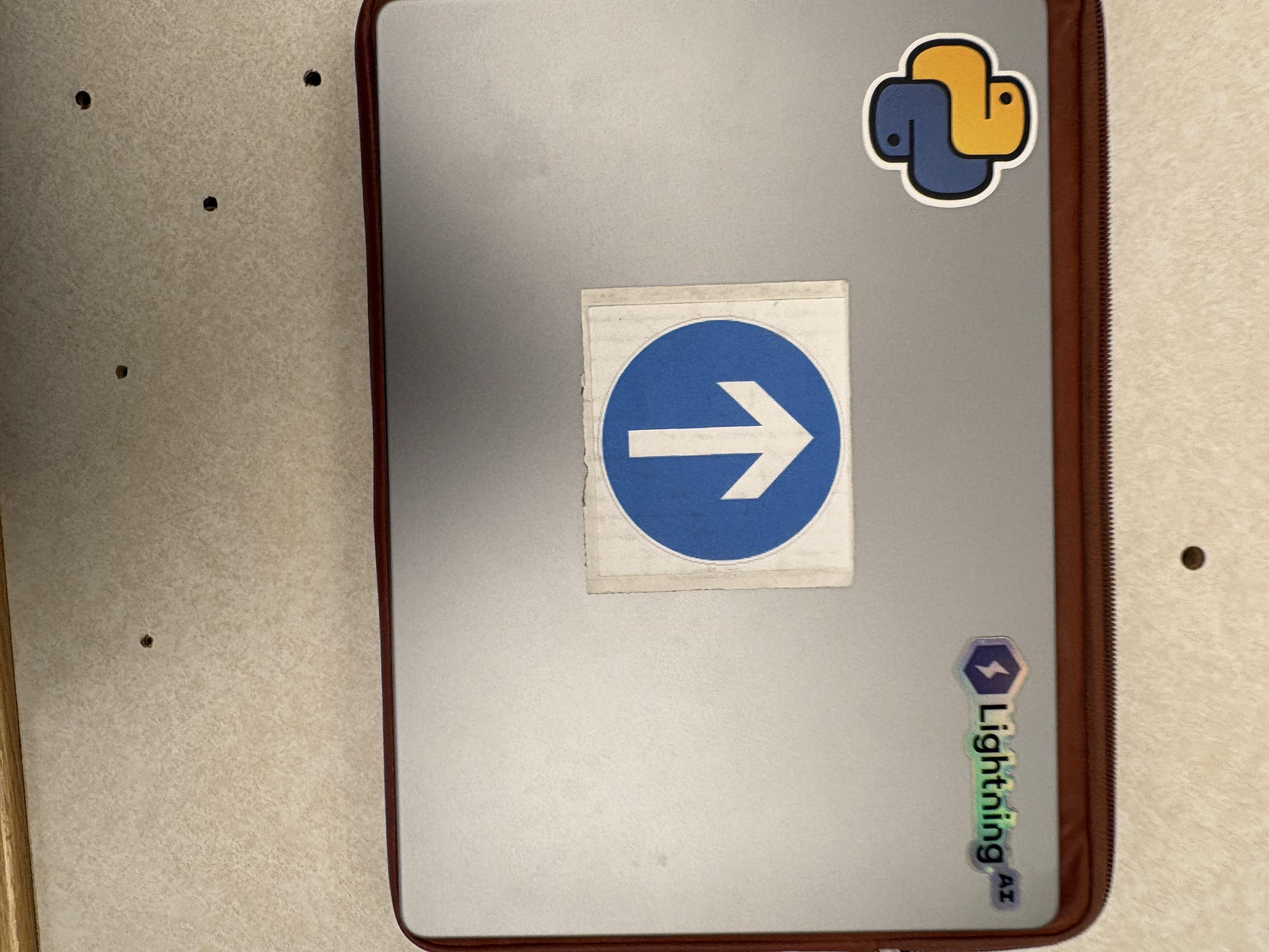Proceed Right: (586, 285, 868, 604)
